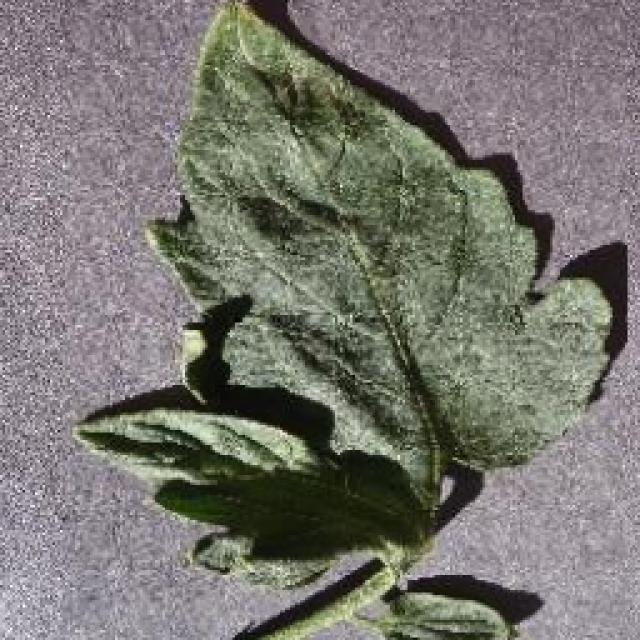Healthy: (62, 0, 628, 640)
